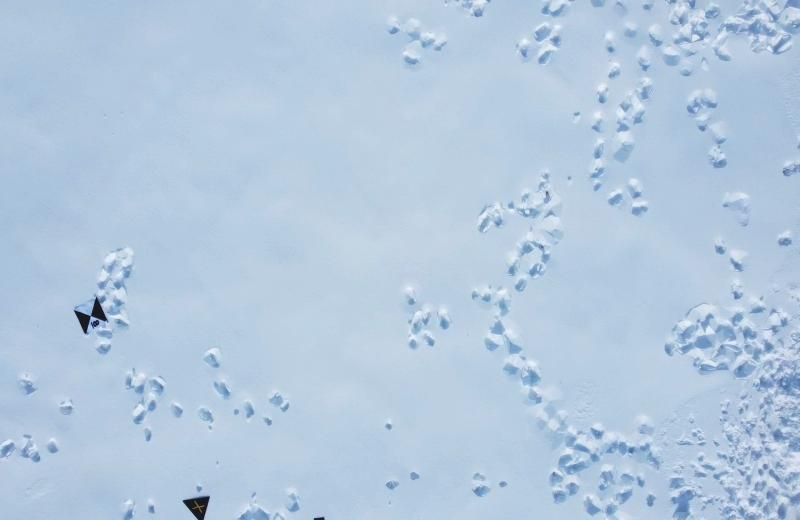Triangle: (181, 492, 213, 520)
